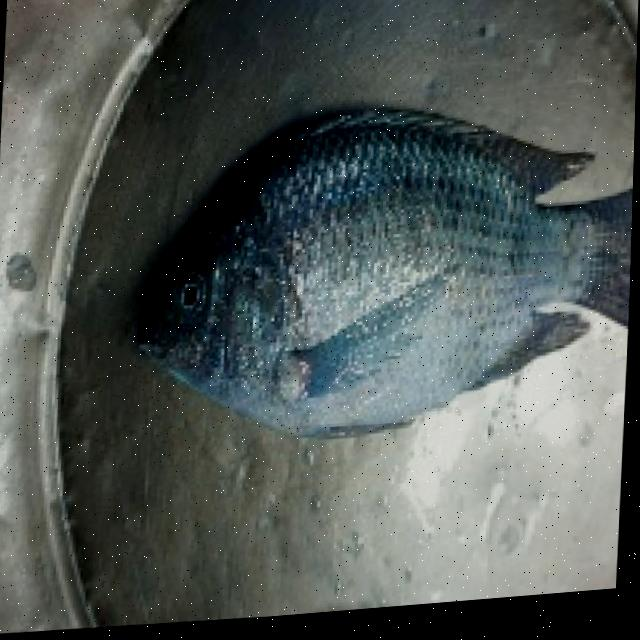Fresh: (111, 71, 637, 482)
